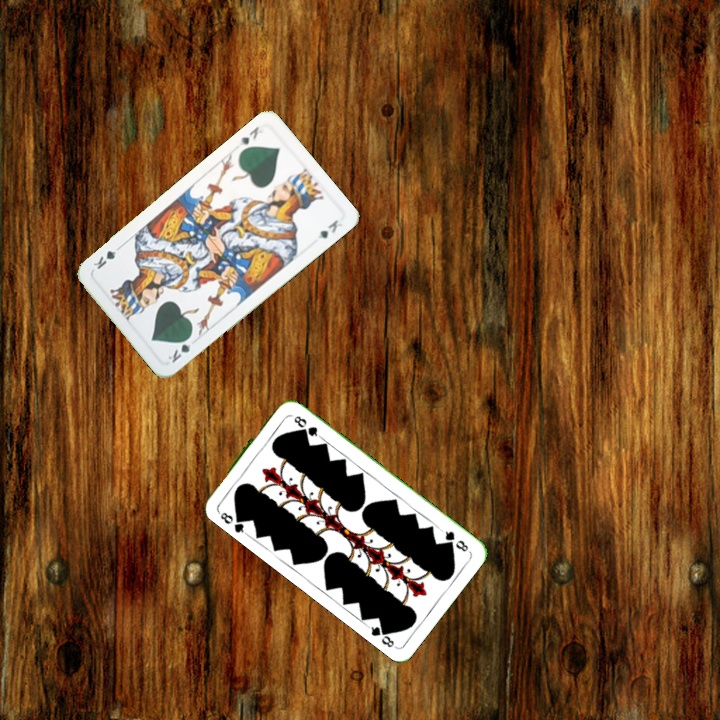G8: (213, 507, 248, 536), (437, 525, 471, 554)
GK: (163, 331, 194, 365), (235, 122, 267, 149)
